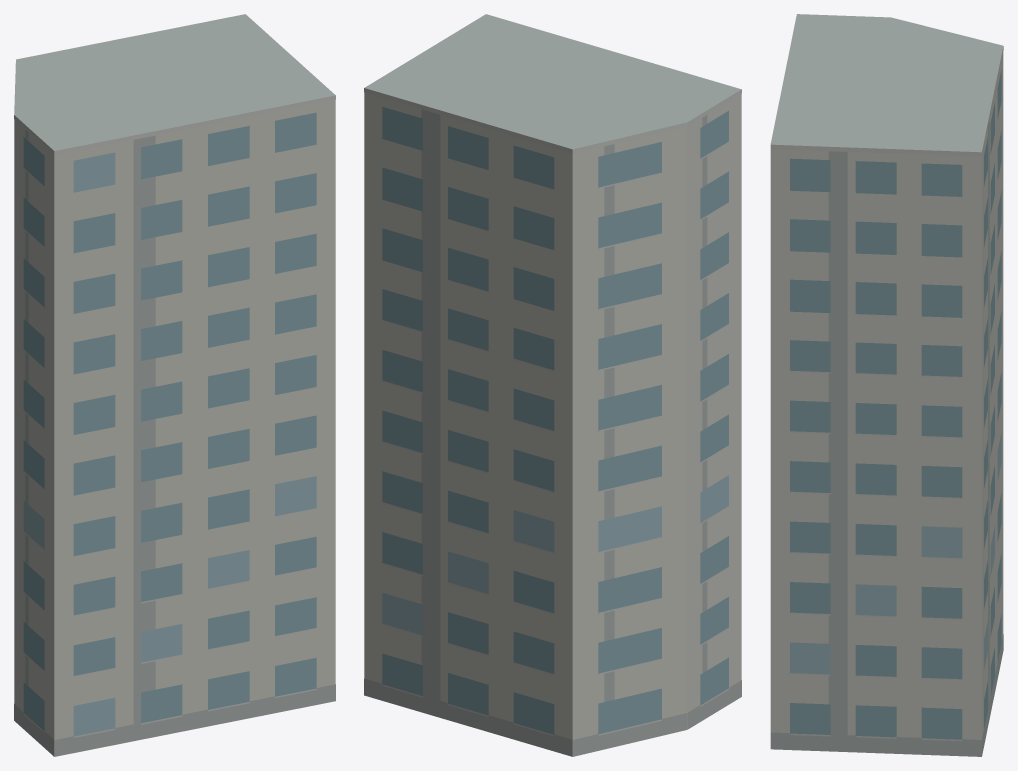
The model's file is residential-01618100-49cf-4165-afd3-ff4db35bb510.glb.
3 views of the same model, side by side, from view 1: azimuth 30°, elevation 25°; view 2: azimuth 150°, elevation 25°; view 3: azimuth 270°, elevation 25° (orthographic).
Parts seen in each view (by area): view 1: residential-01618100-49cf-4165-afd3-ff4db35bb510.tmp; view 2: residential-01618100-49cf-4165-afd3-ff4db35bb510.tmp; view 3: residential-01618100-49cf-4165-afd3-ff4db35bb510.tmp.
Boxes of the visible parts, bbox=[...] form: residential-01618100-49cf-4165-afd3-ff4db35bb510.tmp: bbox=[14, 14, 335, 756]; residential-01618100-49cf-4165-afd3-ff4db35bb510.tmp: bbox=[364, 14, 741, 756]; residential-01618100-49cf-4165-afd3-ff4db35bb510.tmp: bbox=[770, 14, 1003, 756].
Size of the model in its own units: 16.19 by 33 by 11.53.
